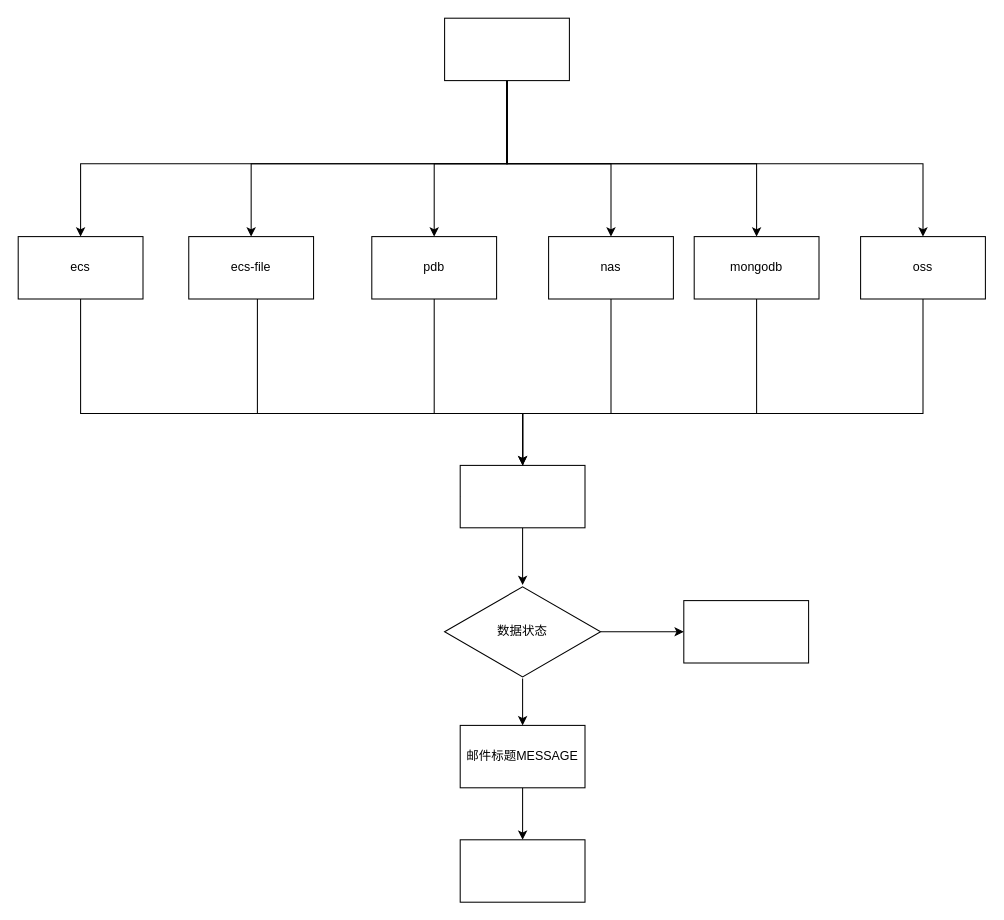
Some shapes in this 1004 by 920 pixel diagram are drawn without their labels. Here are the shapes that lost their labels. From the top down, the centre of each, then its label:
the point at 506,49: run.sh
the point at 522,496: 数据汇总，校验
the point at 746,631: 邮件标题PASS
the point at 522,870: 邮件内容写入，发送邮件
